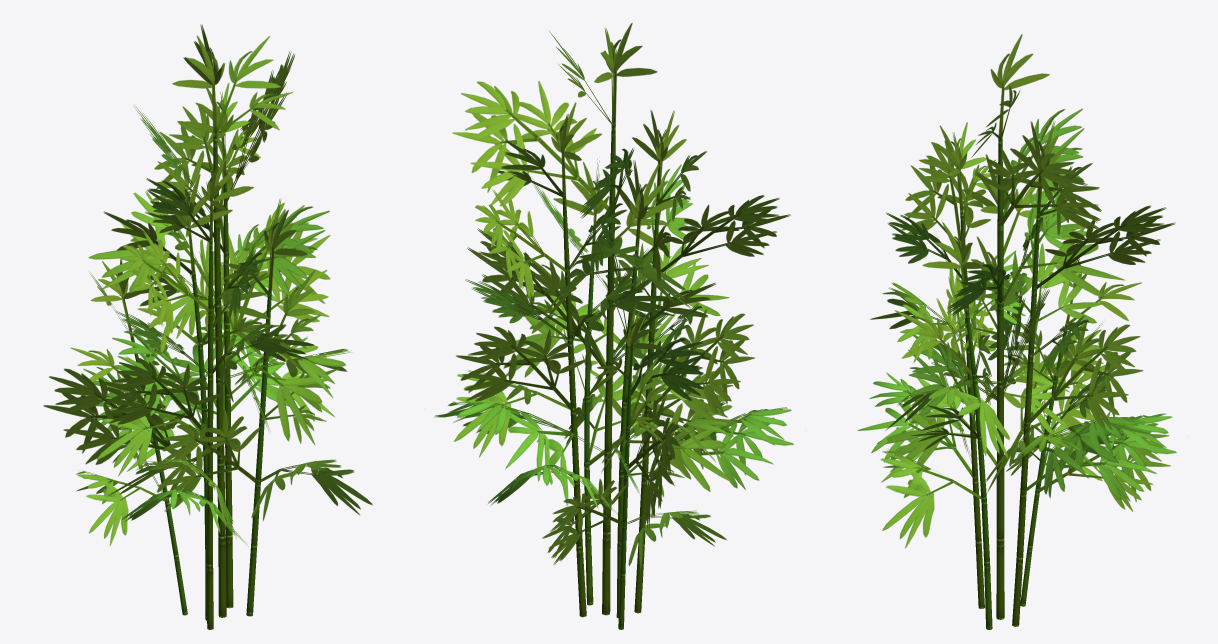
3 renders of one model, left to right at view 1: azimuth 30°, elevation 25°; view 2: azimuth 150°, elevation 25°; view 3: azimuth 270°, elevation 25°, orthographic. The views are drawn at different scales.
Visible parts, largest first — view 1: bamboo1obj; view 2: bamboo1obj; view 3: bamboo1obj.
Boxes of the visible parts, box(x1,y1,x2,y2) form: bamboo1obj: box(43, 24, 372, 629); bamboo1obj: box(434, 23, 793, 629); bamboo1obj: box(857, 34, 1176, 629).
Size of the model in its own units: 24.13 by 43.75 by 24.34.
Materials: 1 (1 with a texture image).
